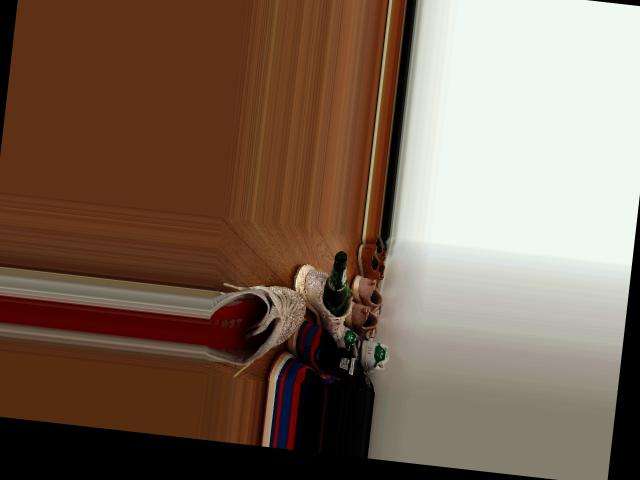beer: (321, 249, 351, 317)
